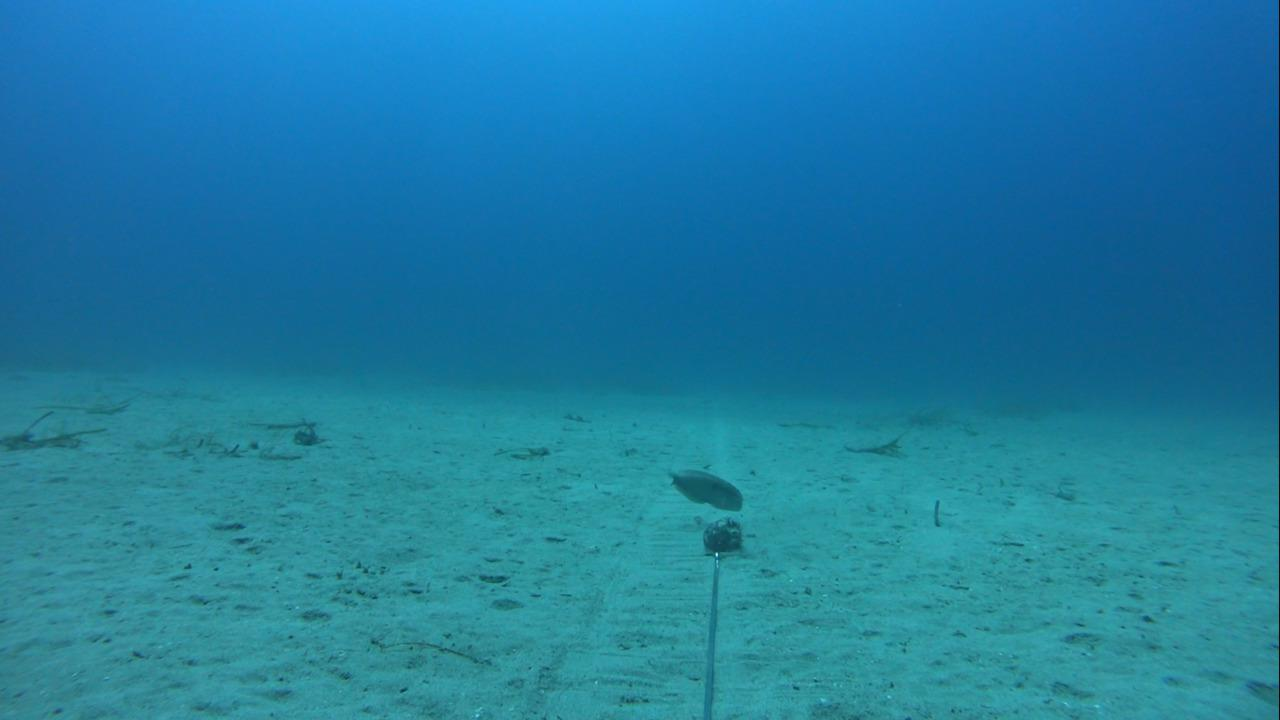raor: (659, 463, 746, 510)
